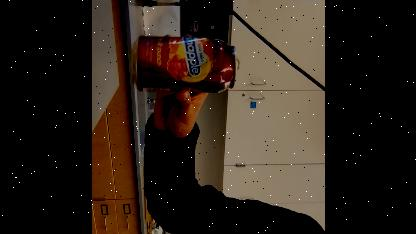Can: (132, 37, 236, 91)
